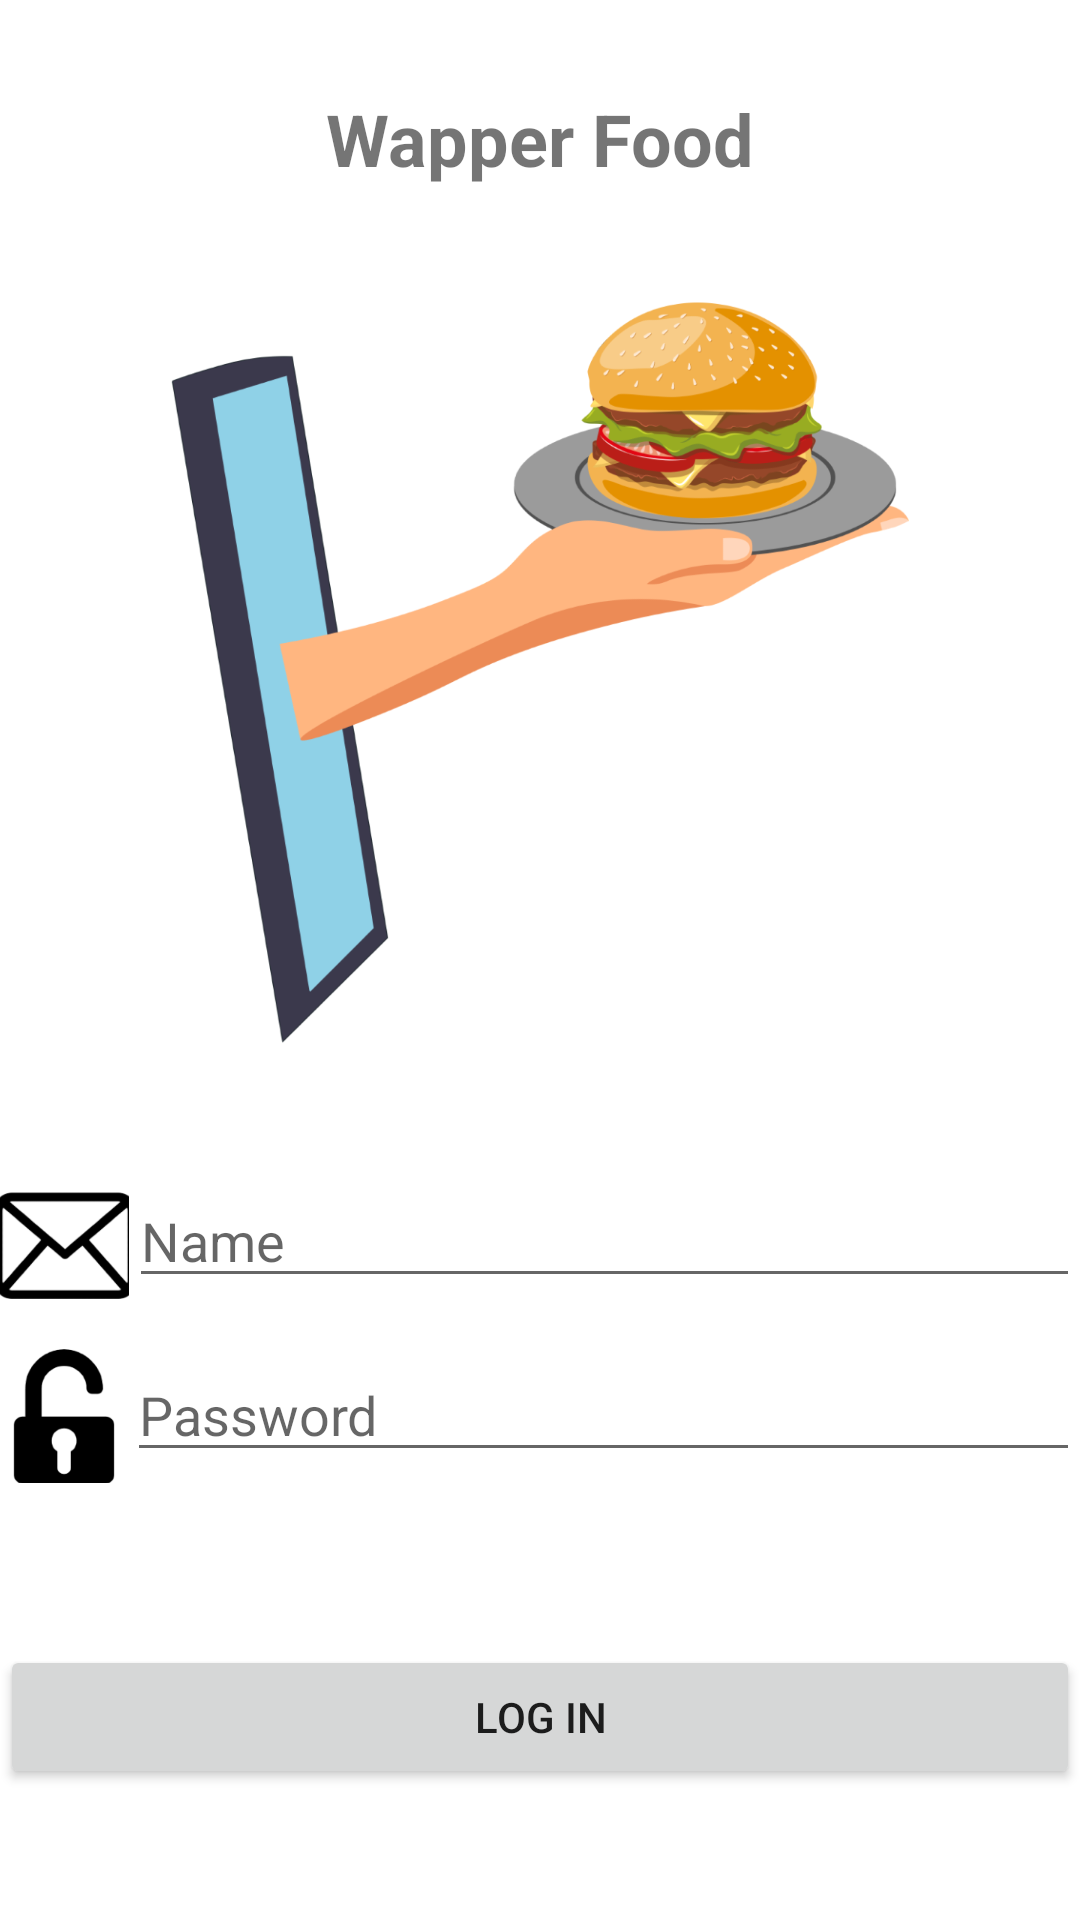

Named icons in this screenshot (1080w x 1920h) and their centers, (x=x, y=y):
candado: (x=64, y=1416)
correo: (x=64, y=1245)
